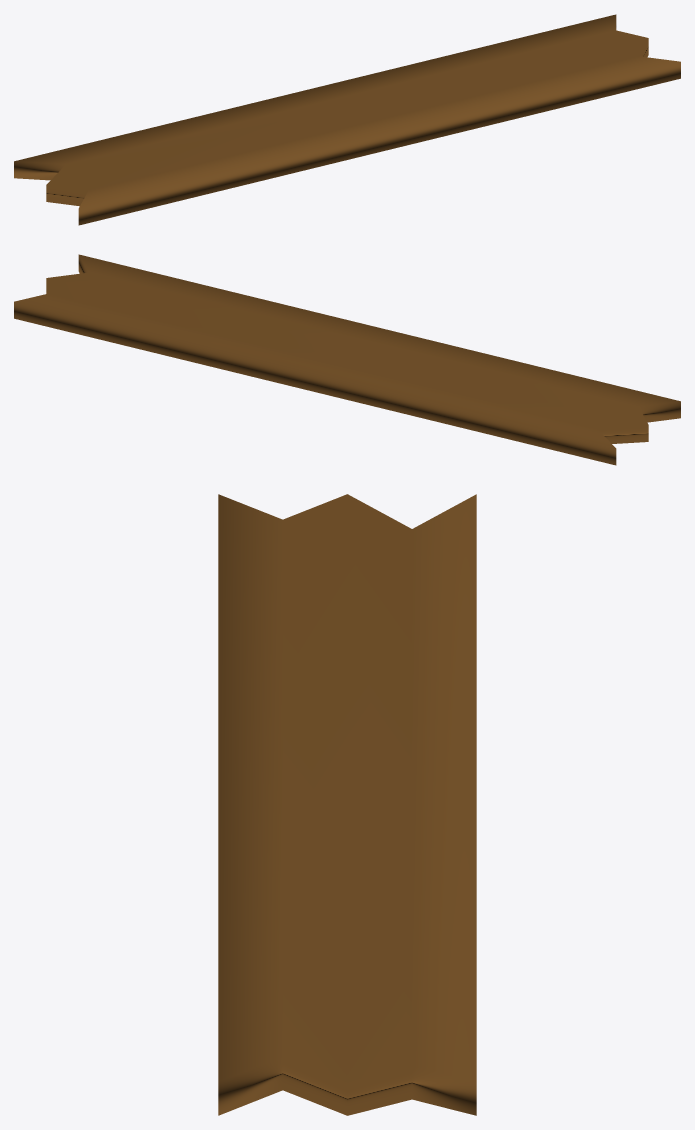
File: prop_Tabla2_Low.fbx
The picture shows the model from 3 angles, top to bottom: view 1: azimuth 30°, elevation 25°; view 2: azimuth 150°, elevation 25°; view 3: azimuth 270°, elevation 25°; orthographic projection. The views are drawn at different scales.
Visible parts, largest first — view 1: Tabla1_LowPoly1; view 2: Tabla1_LowPoly1; view 3: Tabla1_LowPoly1.
Part boxes in pixels (box(x1,y1,x2,y2)): Tabla1_LowPoly1: box(14, 14, 680, 225); Tabla1_LowPoly1: box(14, 254, 680, 465); Tabla1_LowPoly1: box(218, 494, 476, 1115).
Size of the model in its own units: 115 by 3.1 by 21.46.
